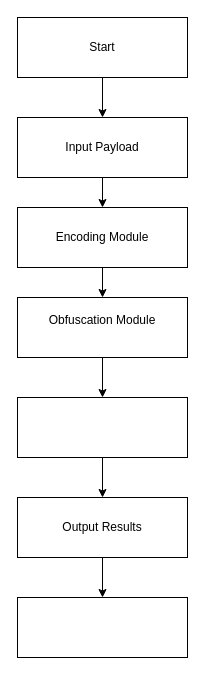
Some shapes in this 205 by 675 pixel diagram are drawn without their labels. The box of each missing label's shape, as (x1, y1, x2, y2) in pixels:
Detection Module: (16, 396, 188, 458)
End: (16, 596, 188, 658)
